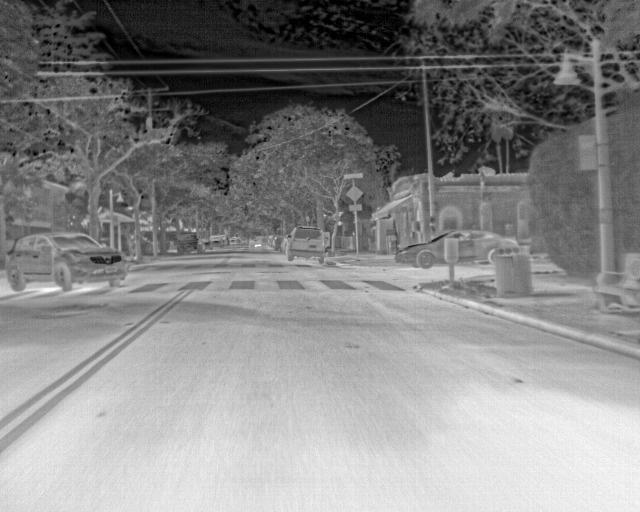car: (5, 232, 127, 292), (393, 228, 517, 270), (286, 224, 326, 264), (176, 233, 198, 254), (209, 234, 224, 248), (274, 237, 286, 253), (266, 236, 280, 249), (197, 237, 210, 250)
